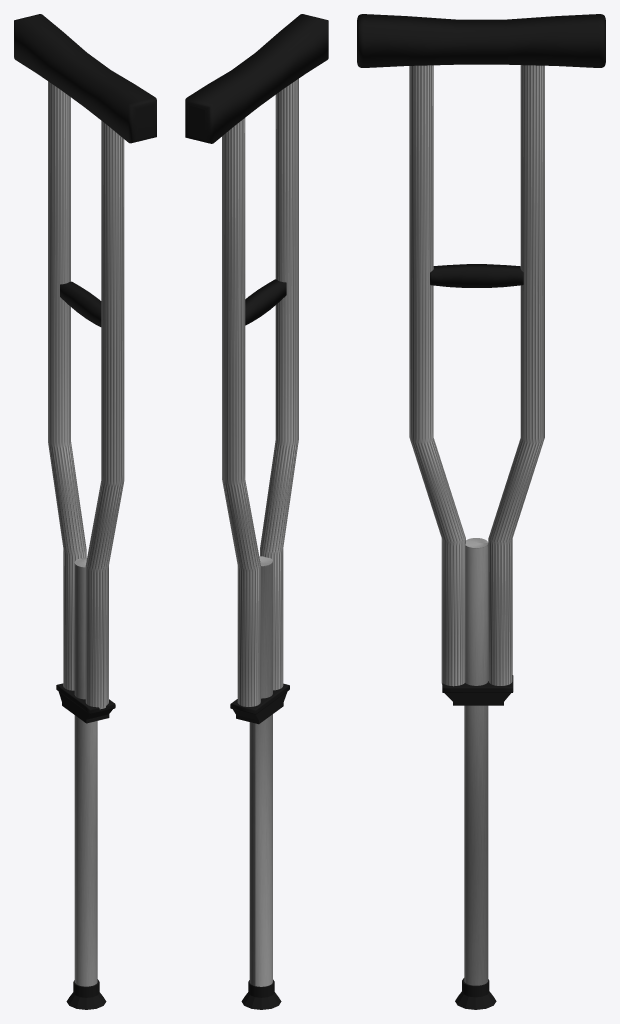
3 views of the same model, side by side, from view 1: azimuth 30°, elevation 25°; view 2: azimuth 150°, elevation 25°; view 3: azimuth 270°, elevation 25° (orthographic). The views are drawn at different scales.
Parts seen in each view (by area): view 1: Cone010, Cone011, Box002, Cone009, Box004, Box003, Cone007; view 2: Cone011, Cone010, Box002, Cone009, Box004, Box003, Cone007; view 3: Cone011, Cone010, Box002, Cone009, Box004, Box003, Cone007.
Boxes of the visible parts, <box> form: Cone010: <box>85,121,124,709</box>; Cone011: <box>48,81,86,690</box>; Box002: <box>14,14,156,143</box>; Cone009: <box>74,557,97,986</box>; Box004: <box>60,281,101,326</box>; Box003: <box>56,683,115,723</box>; Cone007: <box>66,979,106,1009</box>; Cone011: <box>222,118,260,706</box>; Cone010: <box>260,78,298,690</box>; Box002: <box>185,14,328,143</box>; Cone009: <box>249,556,272,986</box>; Box004: <box>245,279,286,325</box>; Box003: <box>230,683,289,724</box>; Cone007: <box>241,979,281,1009</box>; Cone011: <box>488,65,544,685</box>; Cone010: <box>409,65,465,686</box>; Box002: <box>357,14,605,67</box>; Cone009: <box>464,538,488,985</box>; Box004: <box>430,264,523,287</box>; Box003: <box>442,675,513,705</box>; Cone007: <box>455,978,496,1009</box>.
Size of the model in its own units: 1.36 by 35.24 by 8.1.
Materials: 2 (1 with a texture image).
